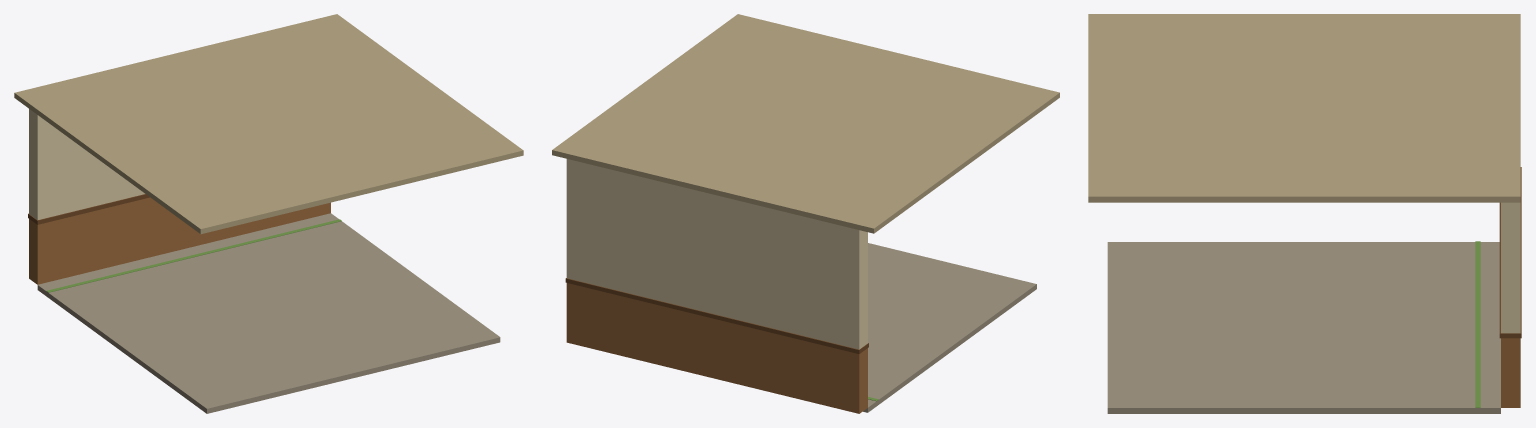
Rendered from room_shared_main_t.glb.
The picture shows the model from 3 angles, left to right: view 1: azimuth 30°, elevation 25°; view 2: azimuth 150°, elevation 25°; view 3: azimuth 270°, elevation 25°; orthographic projection. The views are drawn at different scales.
Visible parts, largest first — view 1: room_shared_main_t; view 2: room_shared_main_t; view 3: room_shared_main_t.
Boxes of the visible parts, box(x1,y1,x2,y2) form: room_shared_main_t: box(14, 14, 523, 413); room_shared_main_t: box(552, 14, 1059, 413); room_shared_main_t: box(1088, 14, 1521, 413).
Size of the model in its own units: 6.6 by 3.8 by 6.62.
Materials: 1 (1 with a texture image).
